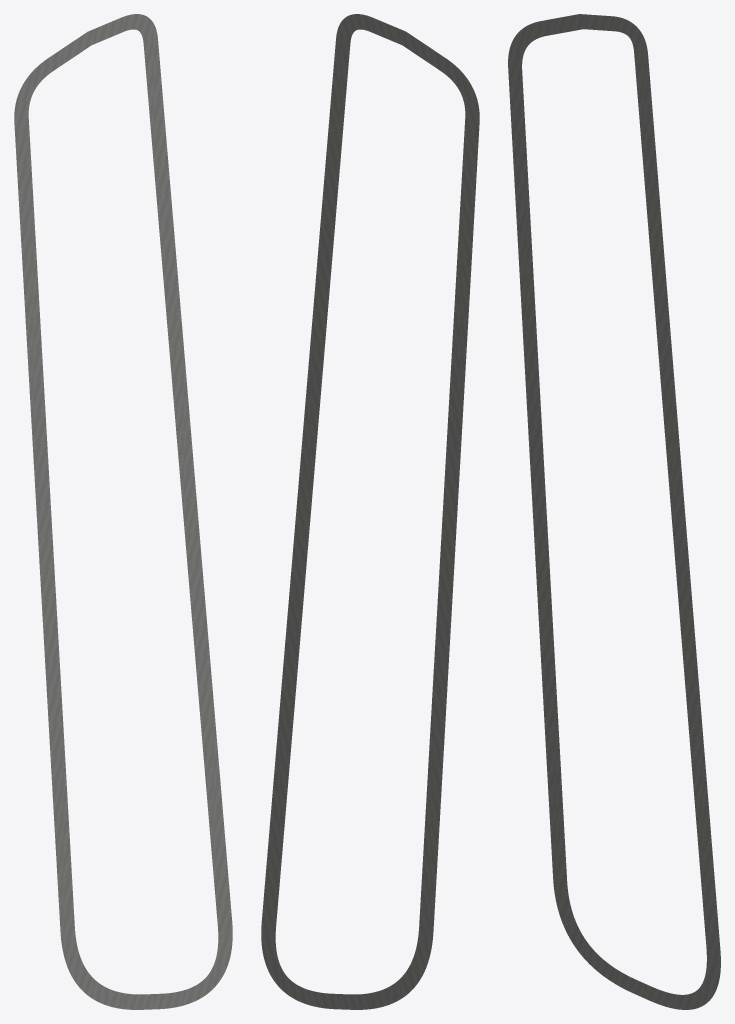
The model's file is curb_top_ring_03_visual.obj.
The picture shows the model from 3 angles, left to right: view 1: azimuth 30°, elevation 25°; view 2: azimuth 150°, elevation 25°; view 3: azimuth 330°, elevation 25°; orthographic projection. The views are drawn at different scales.
Visible parts, largest first — view 1: curb_top_ring_03_visual; view 2: curb_top_ring_03_visual; view 3: curb_top_ring_03_visual.
Boxes of the visible parts, x1,y1,x2,y2 form: curb_top_ring_03_visual: [14, 14, 232, 1009]; curb_top_ring_03_visual: [261, 14, 479, 1009]; curb_top_ring_03_visual: [508, 14, 720, 1009].
Size of the model in its own units: 5.45 by 23.92 by 0.
1 material, 1 textured.
